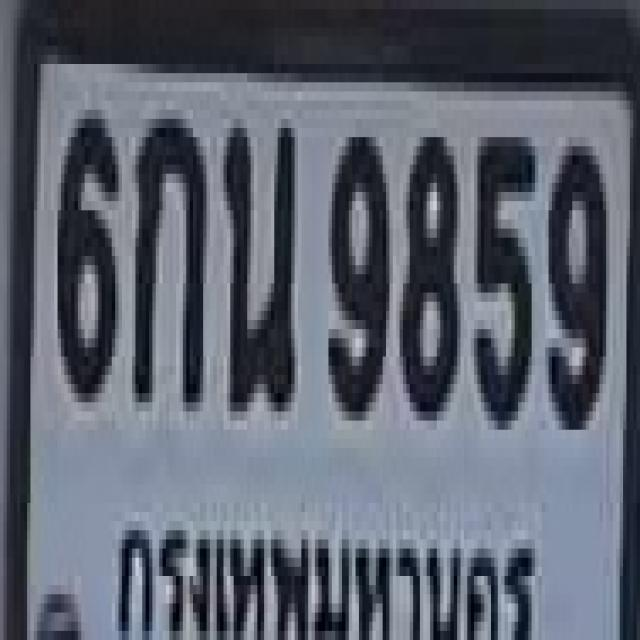5: (471, 128, 532, 421)
6: (54, 101, 115, 393)
8: (399, 128, 454, 411)
9: (325, 128, 386, 411), (545, 137, 603, 421)
A01: (132, 110, 203, 402)
A25: (220, 114, 291, 407)
BKK: (112, 509, 546, 640)
